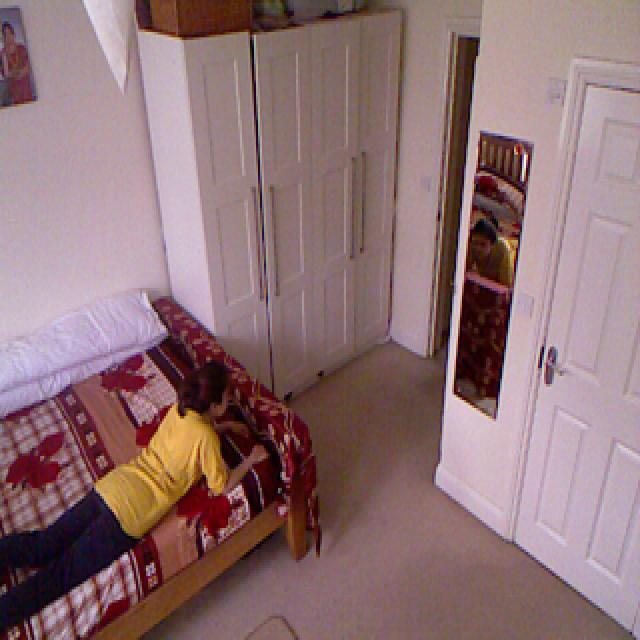lying: (7, 346, 243, 631)
